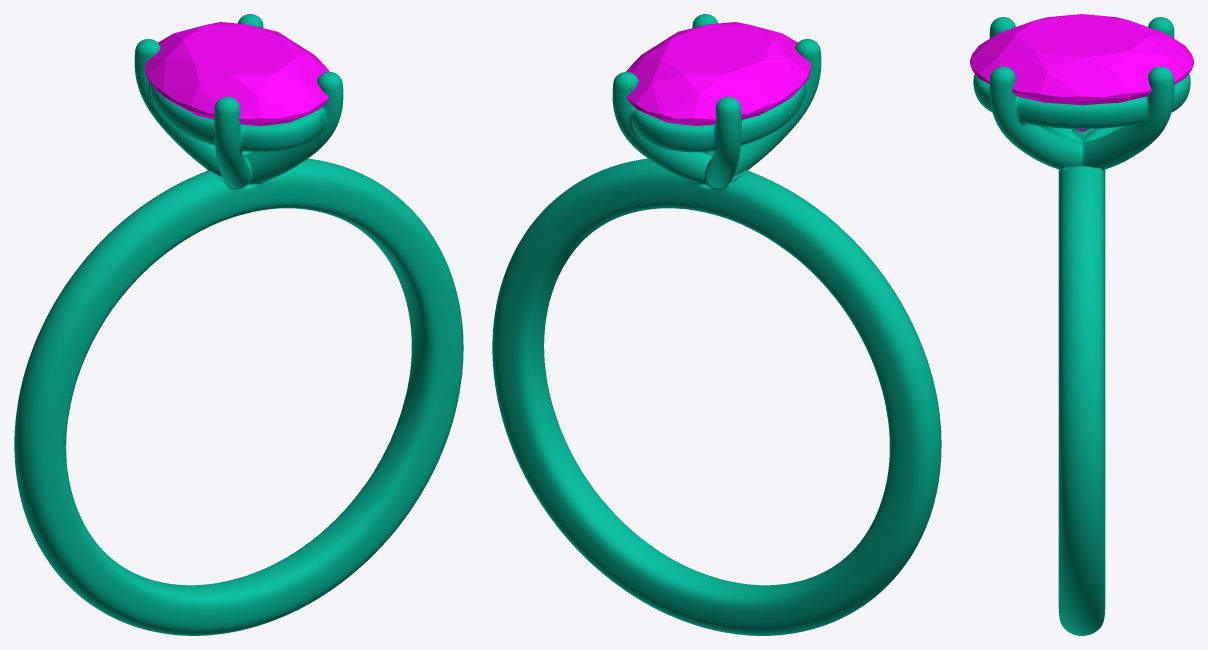
The model's file is BE16459_OV_200ct_RENDER.glb.
3 views of the same model, side by side, from view 1: azimuth 30°, elevation 25°; view 2: azimuth 150°, elevation 25°; view 3: azimuth 270°, elevation 25° (orthographic).
Parts seen in each view (by area): view 1: Metal 01, CS_Diamond_Oval; view 2: Metal 01, CS_Diamond_Oval; view 3: Metal 01, CS_Diamond_Oval.
Boxes of the visible parts, box(x1,y1,x2,y2) form: Metal 01: box(14, 14, 463, 635); CS_Diamond_Oval: box(145, 22, 329, 125); Metal 01: box(492, 14, 941, 635); CS_Diamond_Oval: box(626, 22, 810, 125); Metal 01: box(973, 17, 1190, 635); CS_Diamond_Oval: box(970, 14, 1193, 131).
Size of the model in its own units: 20.47 by 25.58 by 9.
